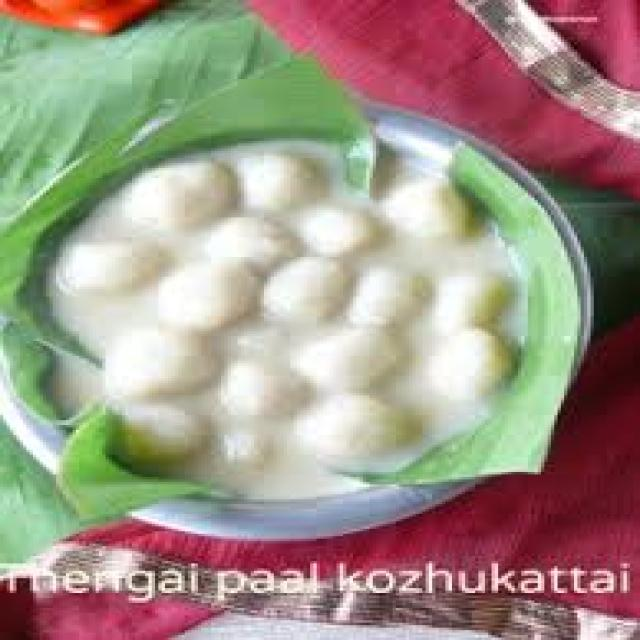paal kolukattai: (39, 133, 525, 505)
